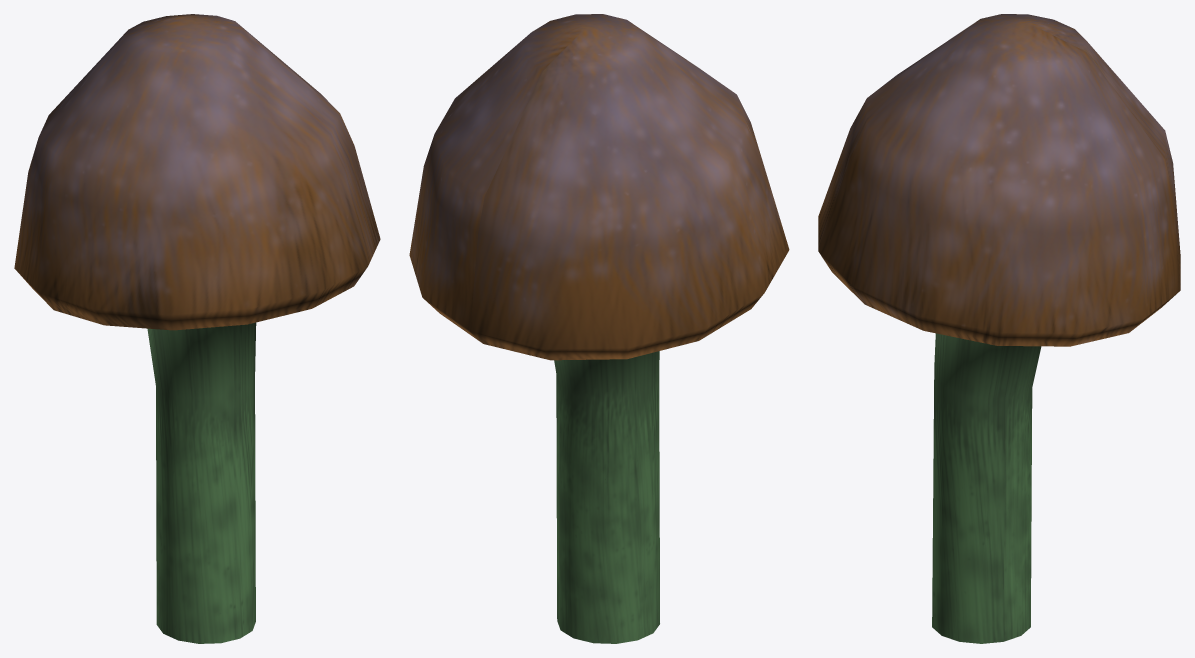
Rendered from Mushroom_3.fbx.
3 views of the same model, side by side, from view 1: azimuth 30°, elevation 25°; view 2: azimuth 150°, elevation 25°; view 3: azimuth 270°, elevation 25° (orthographic). The views are drawn at different scales.
Visible parts, largest first — view 1: Mushroom_3; view 2: Mushroom_3; view 3: Mushroom_3.
Boxes of the visible parts, x1=… form: Mushroom_3: x1=14, y1=14, x2=380, y2=643; Mushroom_3: x1=409, y1=14, x2=789, y2=643; Mushroom_3: x1=818, y1=14, x2=1180, y2=643.
Size of the model in its own units: 0.0825 by 0.1457 by 0.0799.
Materials: 1 (1 with a texture image).
